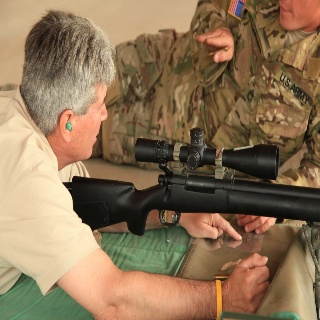rifle: (61, 127, 320, 239)
